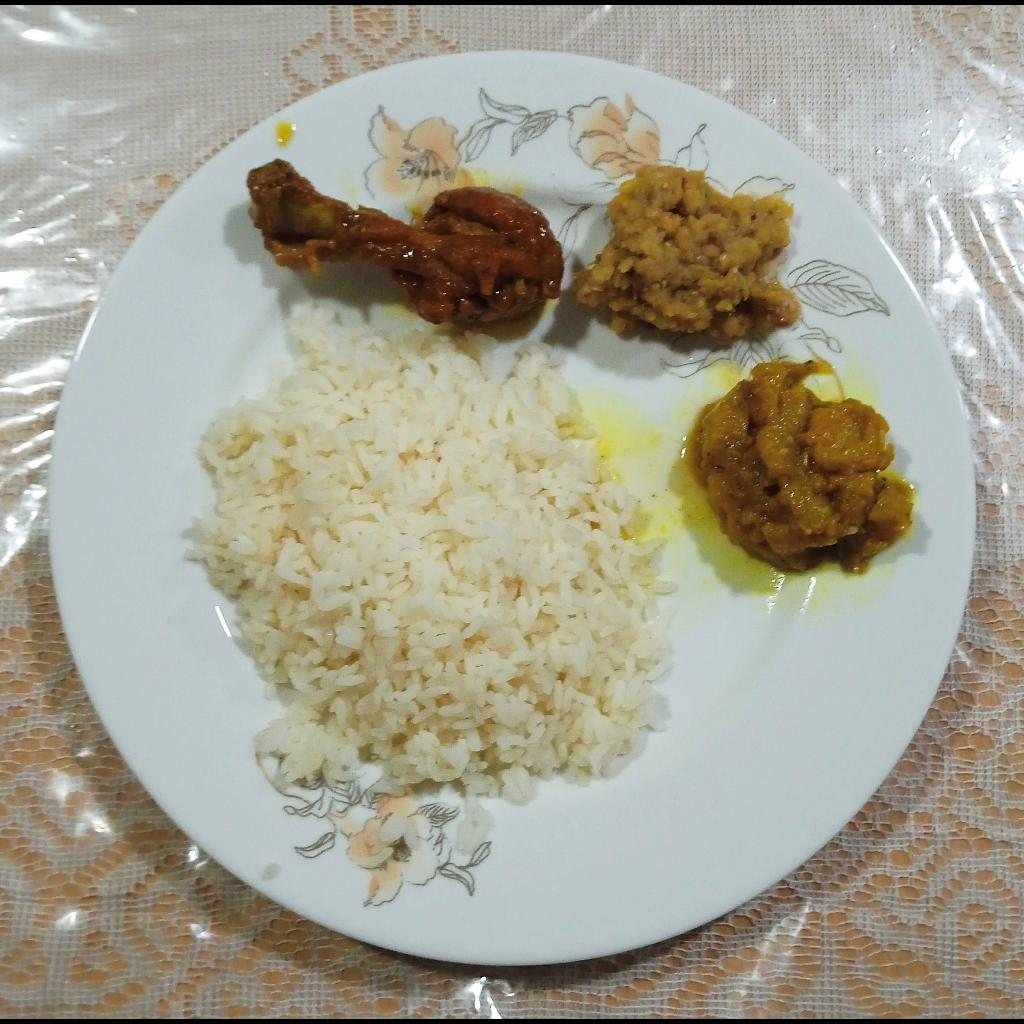chicken: (246, 154, 567, 323)
daal: (573, 163, 800, 341)
kumra-vaji: (681, 357, 917, 579)
rice: (180, 295, 681, 855)
